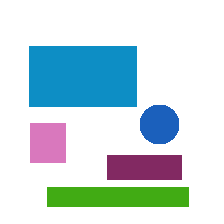circle: (140, 105, 178, 143)
rectangle: (29, 46, 136, 106), (47, 187, 188, 206), (107, 155, 181, 179), (30, 123, 65, 162)
